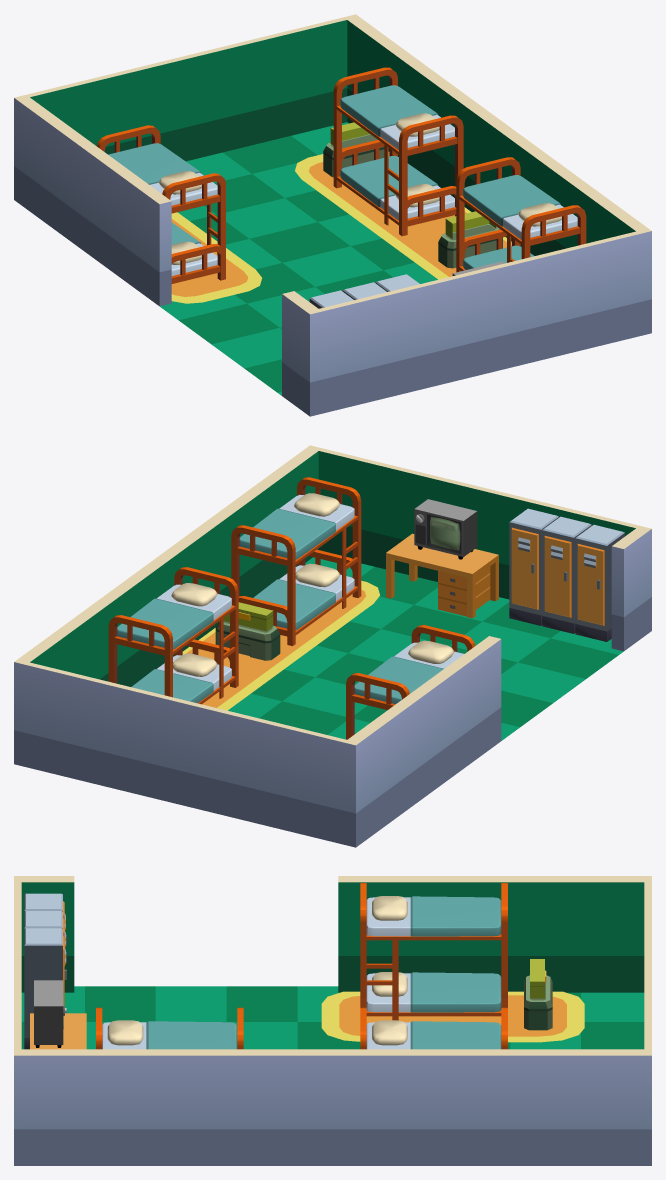
The model's file is Barrack_Lv2_VIP_Right.fbx.
The picture shows the model from 3 angles, top to bottom: view 1: azimuth 30°, elevation 25°; view 2: azimuth 150°, elevation 25°; view 3: azimuth 270°, elevation 25°; orthographic projection. The views are drawn at different scales.
Visible parts, largest first — view 1: Barrack_Lv2_VIP_Right14, Barrack_Lv2_VIP_Right20, Barrack_Lv2_VIP_Right15, Barrack_Lv2_VIP_Right11, Barrack_Lv2_VIP_Right19, Barrack_Lv2_VIP_Right23, Barrack_Lv2_VIP_Right22, Barrack_Lv2_VIP_Right24, Barrack_Lv2_VIP_Right5, Barrack_Lv2_VIP_Right18, Barrack_Lv2_VIP_Right4, Barrack_Lv2_VIP_Right21 (+1 smaller); view 2: Barrack_Lv2_VIP_Right15, Barrack_Lv2_VIP_Right20, Barrack_Lv2_VIP_Right11, Barrack_Lv2_VIP_Right19, Barrack_Lv2_VIP_Right14, Barrack_Lv2_VIP_Right22, Barrack_Lv2_VIP_Right23, Barrack_Lv2_VIP_Right6, Barrack_Lv2_VIP_Right24, Barrack_Lv2_VIP_Right5, Barrack_Lv2_VIP_Right18, Barrack_Lv2_VIP_Right1 (+4 smaller); view 3: Barrack_Lv2_VIP_Right19, Barrack_Lv2_VIP_Right11, Barrack_Lv2_VIP_Right20, Barrack_Lv2_VIP_Right24, Barrack_Lv2_VIP_Right4, Barrack_Lv2_VIP_Right23, Barrack_Lv2_VIP_Right22, Barrack_Lv2_VIP_Right6, Barrack_Lv2_VIP_Right8, Barrack_Lv2_VIP_Right18, Barrack_Lv2_VIP_Right14, Barrack_Lv2_VIP_Right15 (+4 smaller).
Boxes of the visible parts, x1,y1,x2,y2 form: Barrack_Lv2_VIP_Right14: (306,231,651,416); Barrack_Lv2_VIP_Right20: (160,122,437,395); Barrack_Lv2_VIP_Right15: (26,17,347,161); Barrack_Lv2_VIP_Right11: (14,95,171,306); Barrack_Lv2_VIP_Right19: (344,14,651,255); Barrack_Lv2_VIP_Right23: (333,67,463,236); Barrack_Lv2_VIP_Right22: (456,157,586,272); Barrack_Lv2_VIP_Right24: (97,125,225,283); Barrack_Lv2_VIP_Right5: (295,152,511,279); Barrack_Lv2_VIP_Right18: (282,291,321,415); Barrack_Lv2_VIP_Right4: (171,212,261,303); Barrack_Lv2_VIP_Right21: (438,224,502,268); Barrack_Lv2_VIP_Right15: (14,662,355,847); Barrack_Lv2_VIP_Right20: (228,557,623,740); Barrack_Lv2_VIP_Right11: (344,636,501,847); Barrack_Lv2_VIP_Right19: (14,445,321,686); Barrack_Lv2_VIP_Right14: (310,445,639,599); Barrack_Lv2_VIP_Right22: (231,477,361,646); Barrack_Lv2_VIP_Right23: (108,567,238,704); Barrack_Lv2_VIP_Right6: (386,499,498,618); Barrack_Lv2_VIP_Right24: (346,625,475,739); Barrack_Lv2_VIP_Right5: (182,580,379,710); Barrack_Lv2_VIP_Right18: (611,526,651,651); Barrack_Lv2_VIP_Right1: (575,525,624,641); Barrack_Lv2_VIP_Right19: (14,1049,651,1165); Barrack_Lv2_VIP_Right11: (338,876,651,992); Barrack_Lv2_VIP_Right20: (21,986,644,1049); Barrack_Lv2_VIP_Right24: (360,883,507,1020); Barrack_Lv2_VIP_Right4: (321,991,584,1042); Barrack_Lv2_VIP_Right23: (360,1007,507,1049); Barrack_Lv2_VIP_Right22: (96,1007,243,1049); Barrack_Lv2_VIP_Right6: (30,980,86,1049); Barrack_Lv2_VIP_Right8: (24,928,66,1049); Barrack_Lv2_VIP_Right18: (14,876,74,992); Barrack_Lv2_VIP_Right14: (14,882,21,1165); Barrack_Lv2_VIP_Right15: (644,882,651,1165).
Size of the model in its own units: 700 by 211 by 1050.
